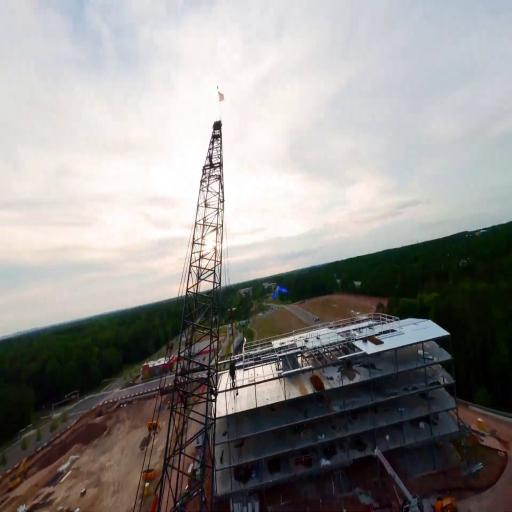uav: (272, 284, 289, 302)
